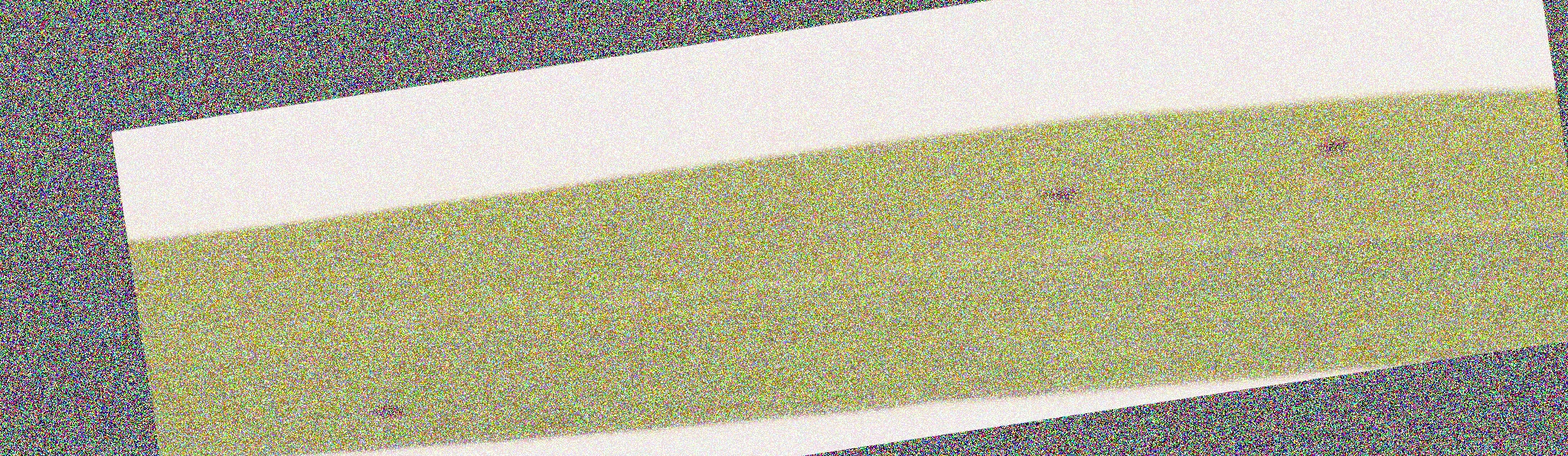Bacterial_Leaf_Blight: (1022, 169, 1107, 219), (361, 376, 434, 424), (1311, 120, 1365, 165)
